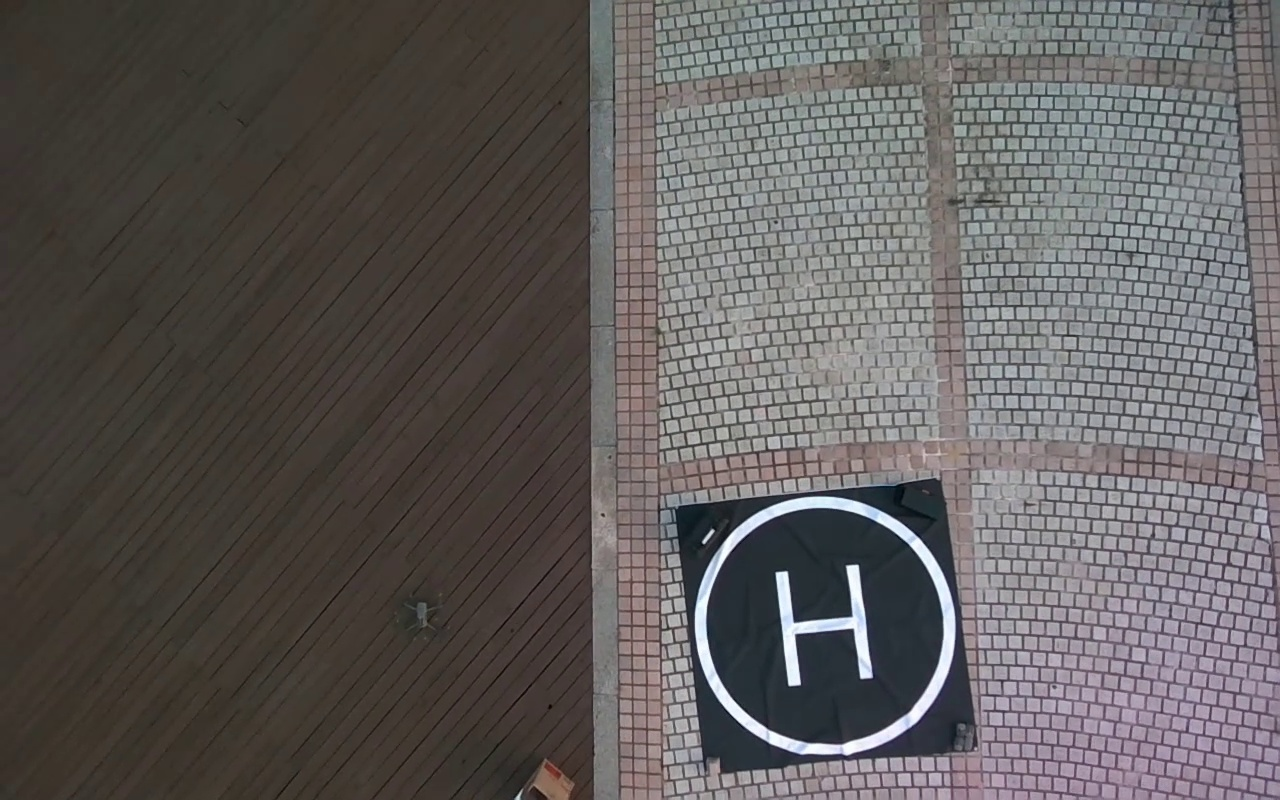H: (773, 561, 876, 687)
heliport: (694, 495, 959, 761)
